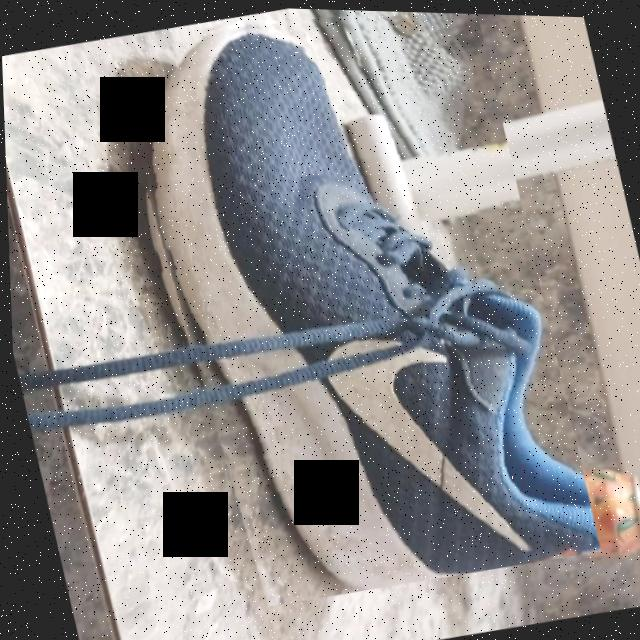shoe: (102, 2, 599, 619)
